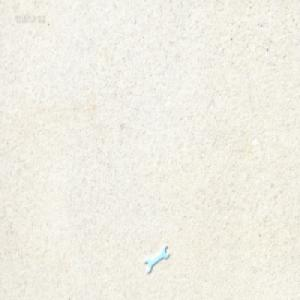Wrench: (142, 243, 166, 272)
